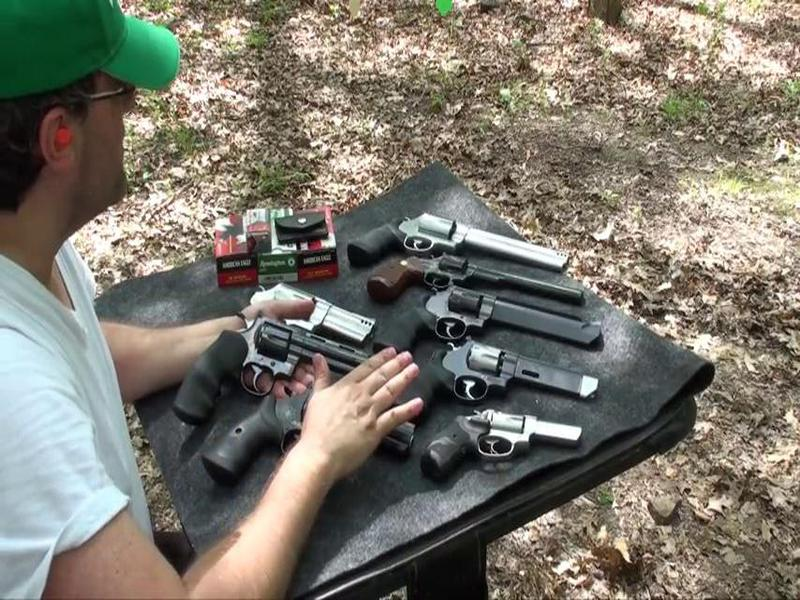Revolver: (184, 306, 407, 418)
